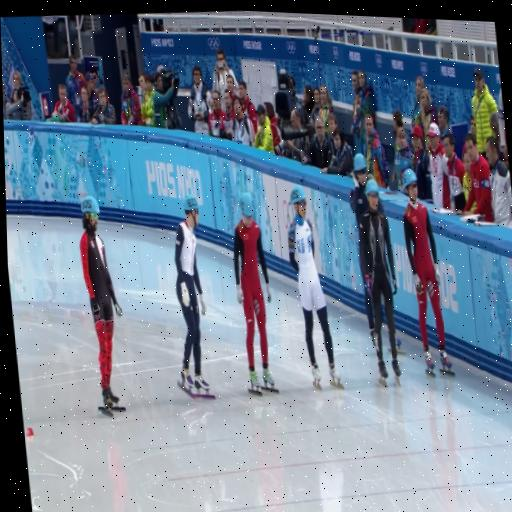Skater: (287, 185, 342, 389), (402, 170, 453, 377), (79, 197, 124, 416), (233, 194, 277, 395), (358, 180, 400, 386), (174, 195, 213, 398), (349, 154, 372, 233)
